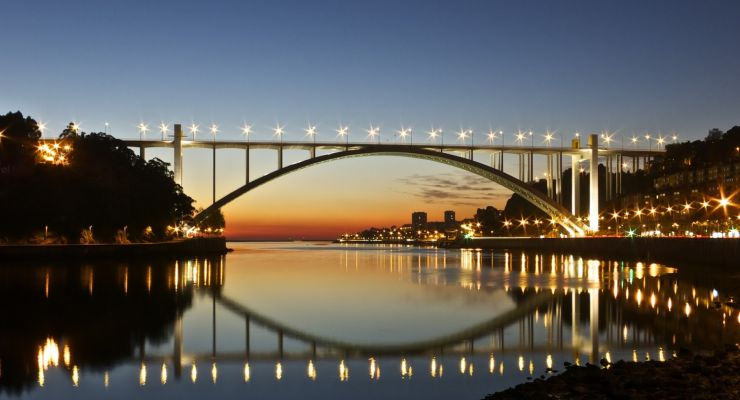arrabida: (110, 122, 667, 237)
